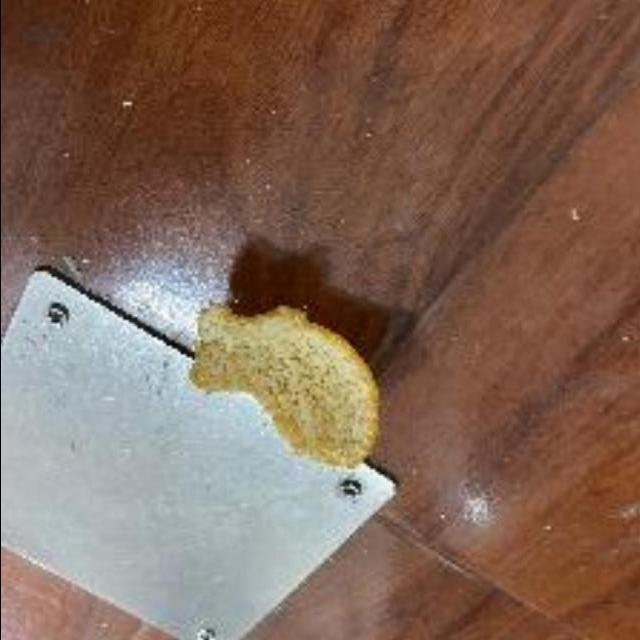orange peel: (178, 288, 388, 481)
